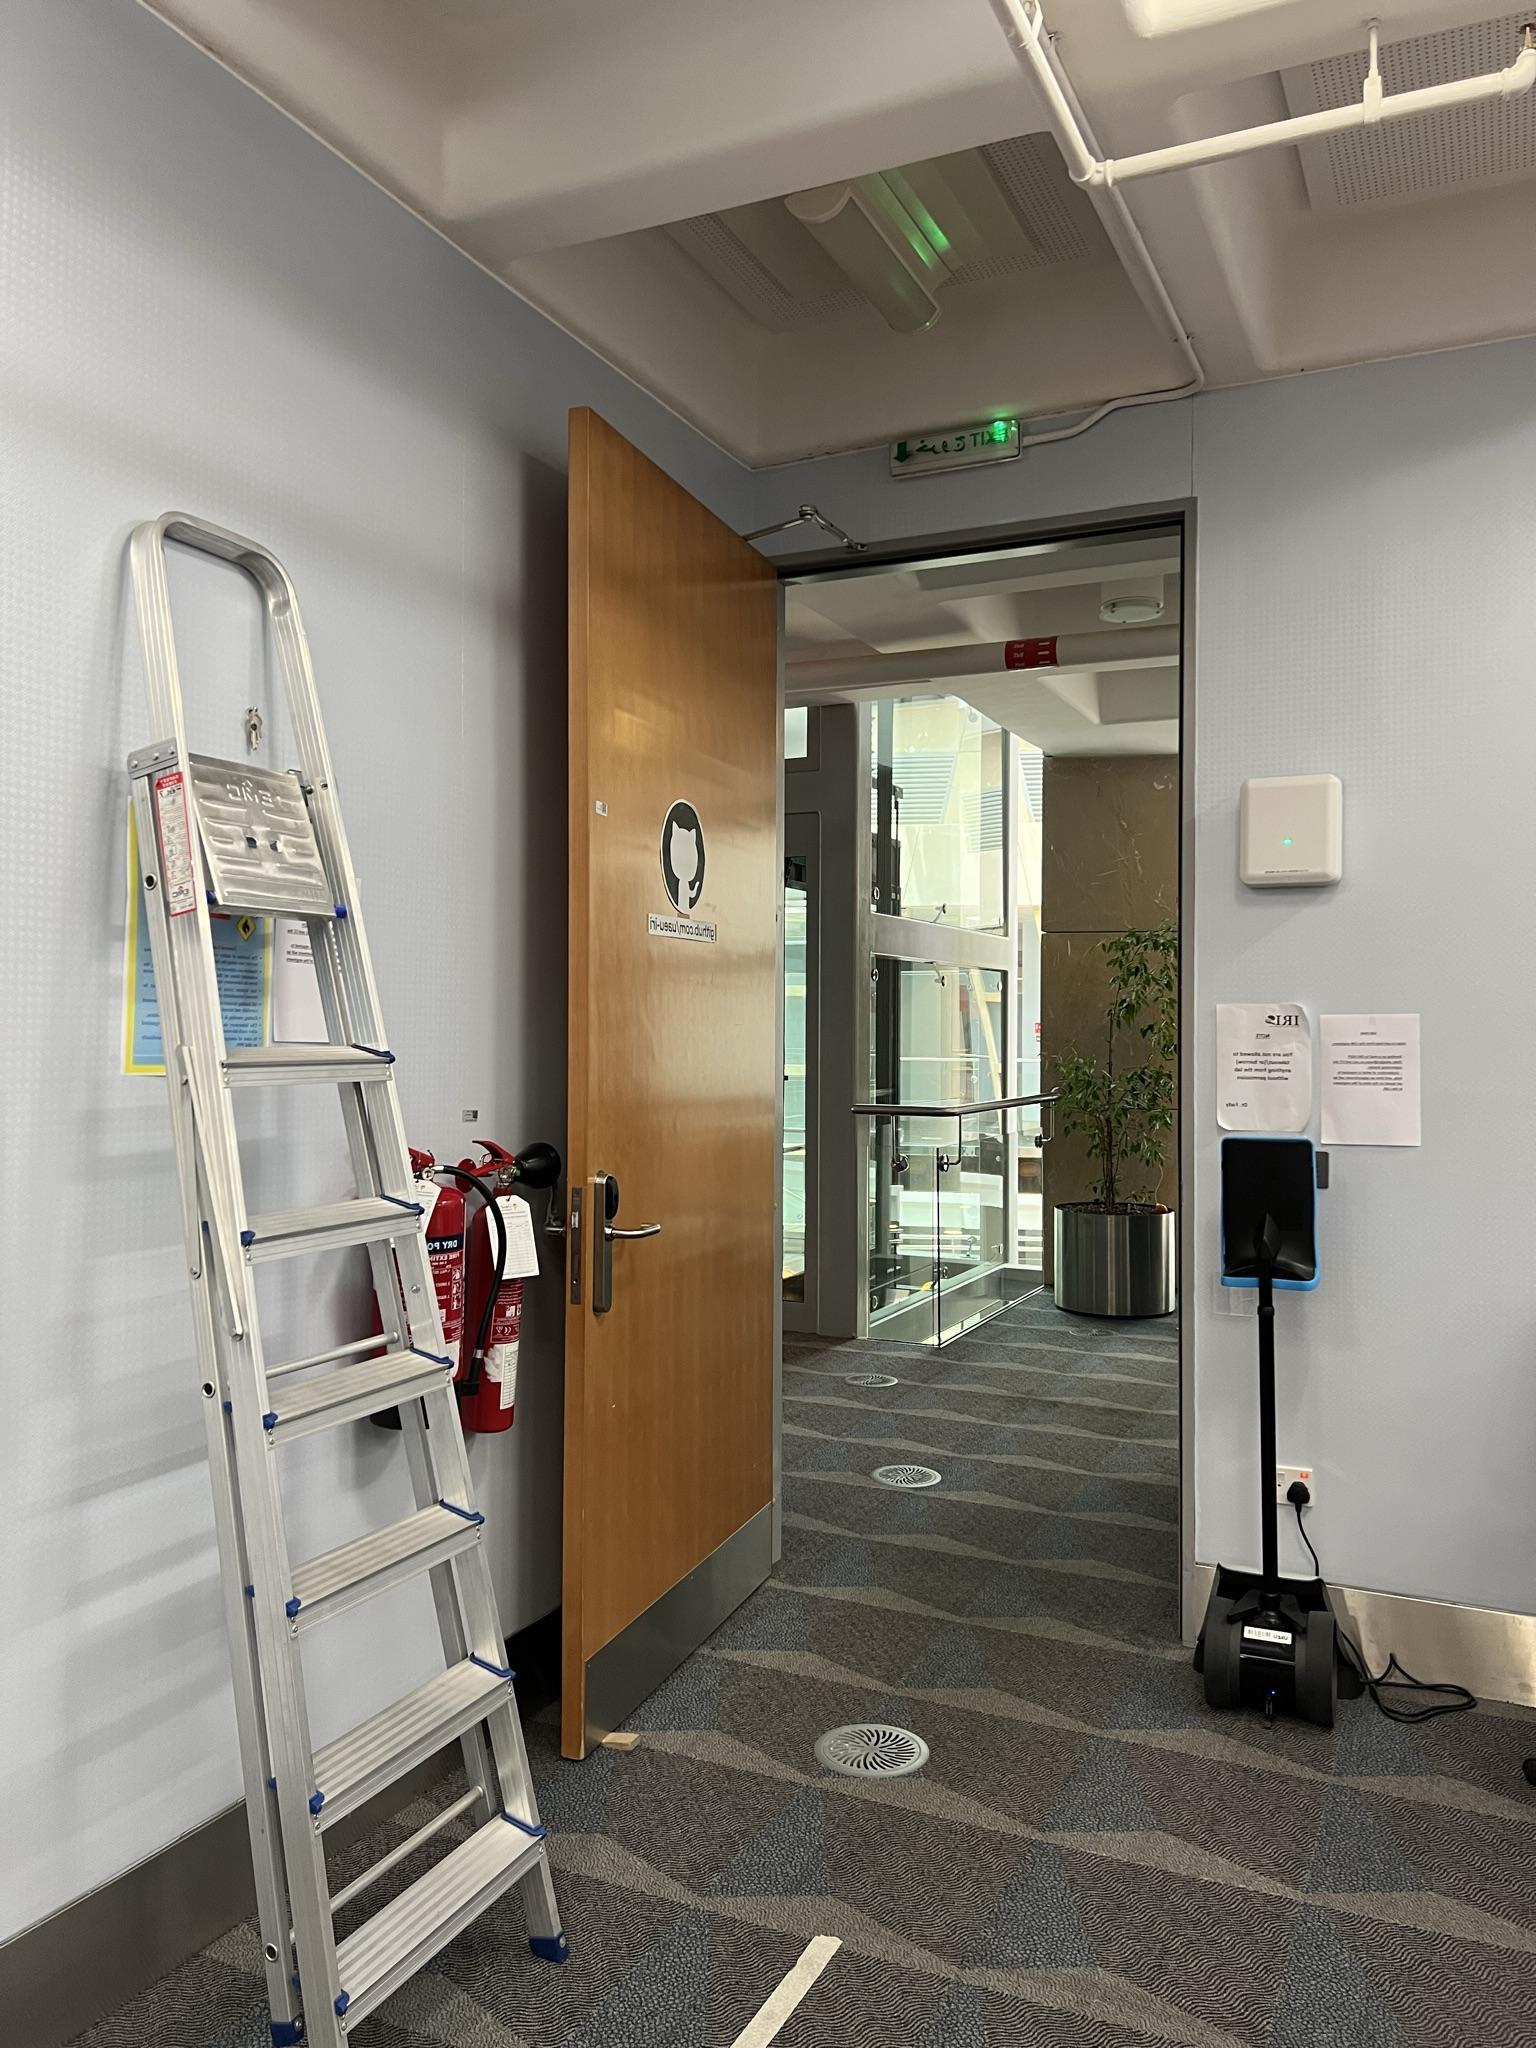door: (558, 502, 774, 1725)
handle: (579, 1151, 658, 1347)
